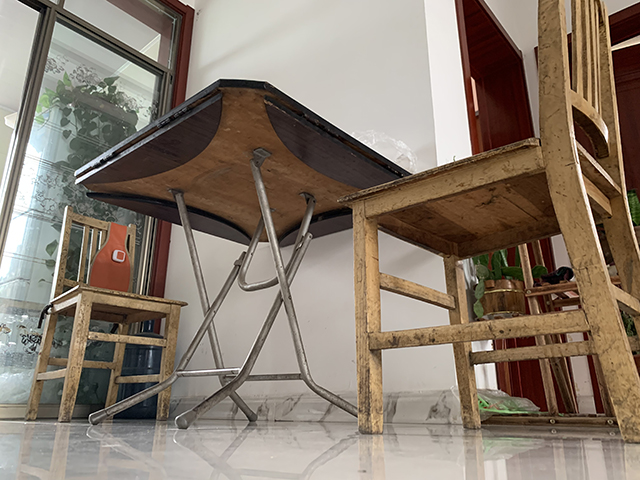stool: (334, 1, 640, 444), (25, 203, 189, 424)
table: (71, 78, 414, 430)
